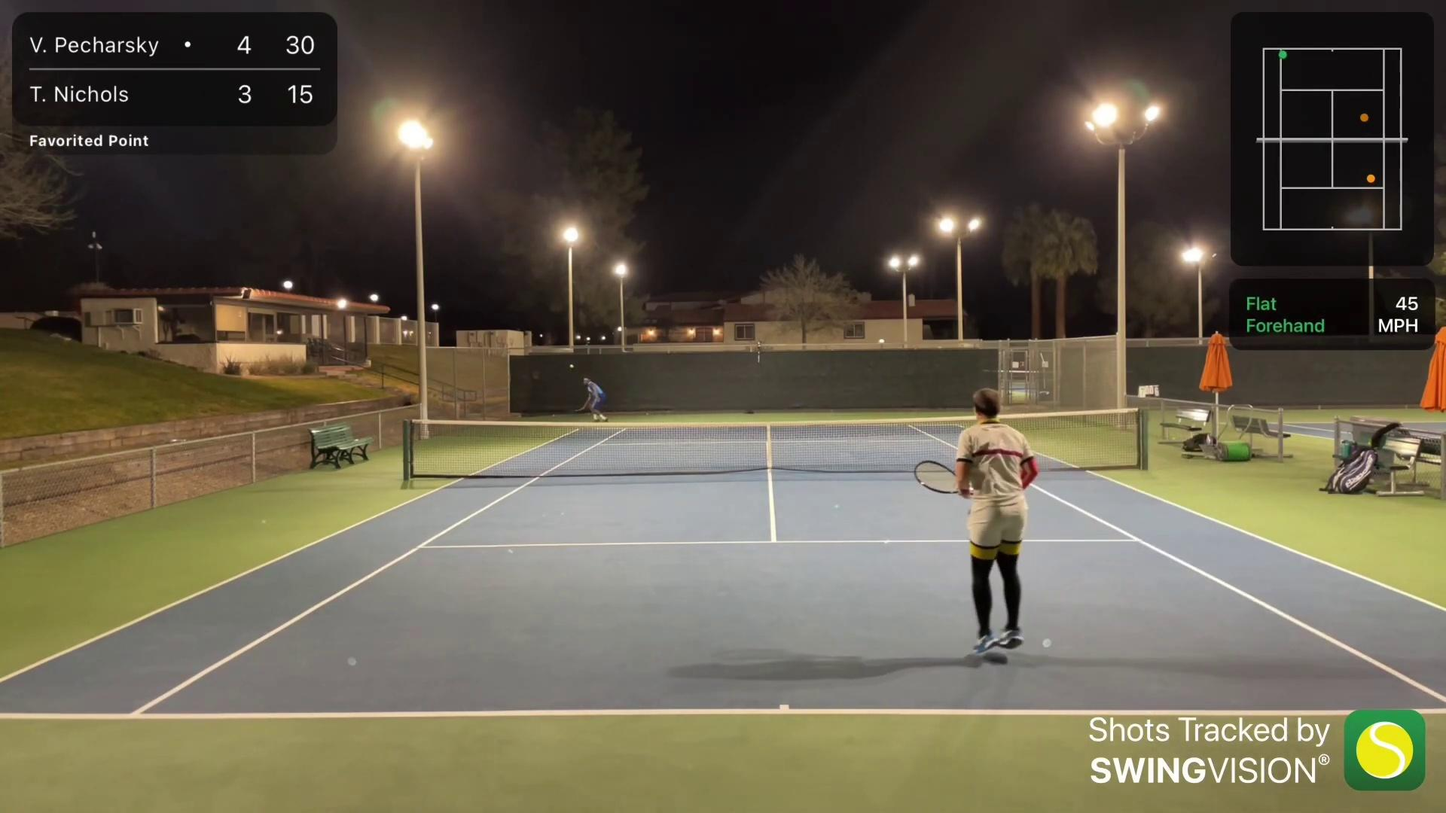ball: (568, 363, 573, 368)
